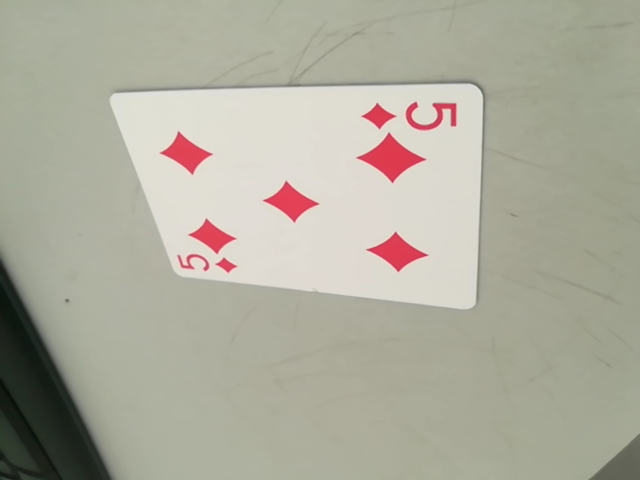fk 5: (359, 94, 460, 134), (173, 247, 243, 277)
